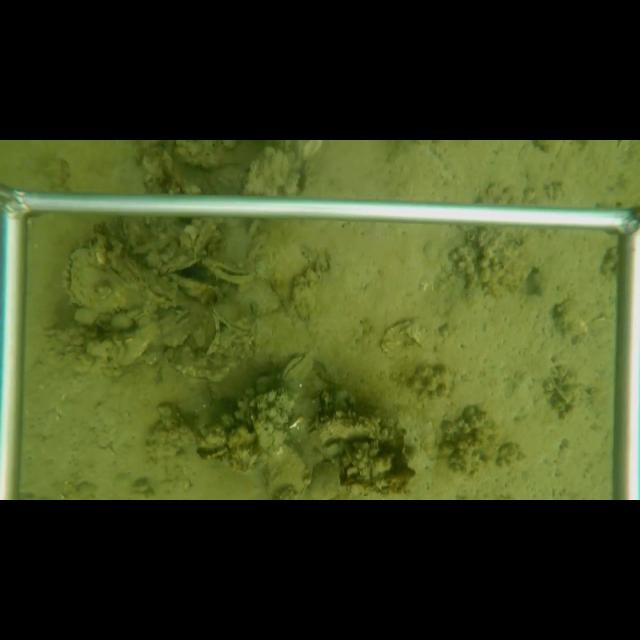Oyster-Closed: (58, 241, 166, 313), (260, 440, 314, 499), (238, 145, 294, 195), (209, 298, 258, 339), (195, 309, 225, 354)
Oyster-Open: (166, 256, 226, 307), (200, 255, 263, 286), (280, 351, 315, 393)
